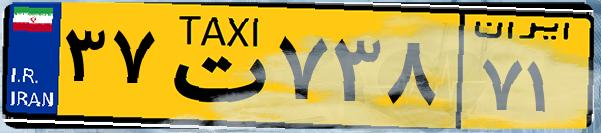1: (525, 38, 570, 115)
3: (330, 28, 385, 110), (57, 26, 110, 100)
7: (270, 28, 330, 110), (475, 38, 525, 113), (110, 28, 158, 98)
8: (385, 28, 445, 110)
ت: (158, 12, 270, 120)
